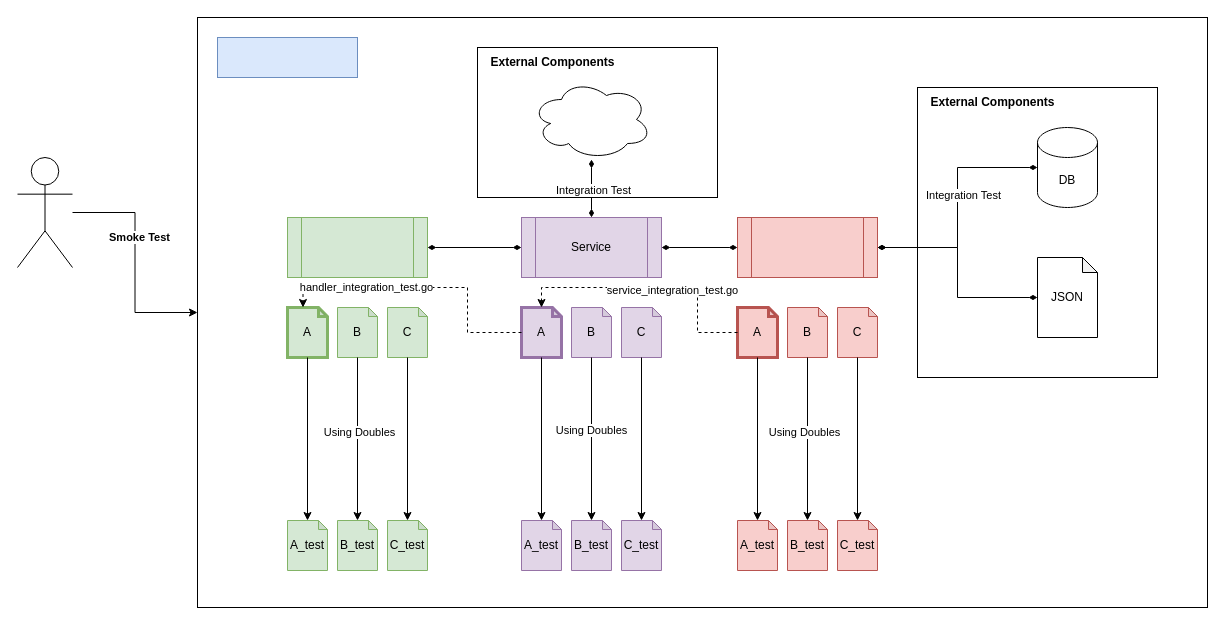
This 1225x625 diagram has some shape labels left out. Here are the shapes that lost their labels. From the top down, the centre of each, then its label:
At [287,57]: "Application".
At [591,119]: "API".
At [44,212]: "Actor".
At [357,247]: "Handler".
At [807,247]: "Repository".
